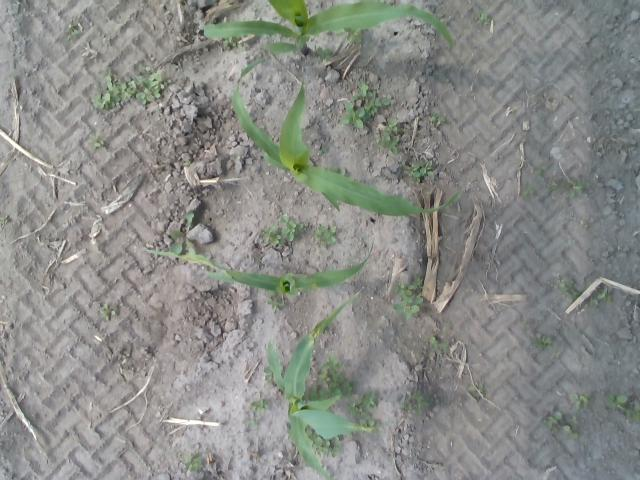Maize: (233, 58, 462, 217), (266, 286, 376, 480), (144, 242, 373, 310), (202, 0, 453, 53)
Weeds: (170, 212, 194, 253), (108, 74, 136, 104), (392, 296, 423, 320), (341, 104, 366, 128), (282, 214, 304, 241), (329, 373, 354, 395), (312, 226, 337, 248), (404, 391, 428, 413), (364, 98, 389, 117), (351, 81, 374, 100), (378, 134, 399, 154), (416, 161, 436, 182), (570, 391, 592, 410), (263, 226, 281, 247), (546, 412, 562, 434), (408, 275, 428, 292), (429, 335, 449, 351), (605, 392, 627, 406), (563, 280, 579, 299), (92, 92, 111, 108), (323, 357, 340, 374), (138, 88, 154, 106), (100, 304, 116, 320), (394, 284, 412, 298), (185, 456, 203, 470), (362, 392, 377, 408), (626, 407, 640, 424), (344, 28, 360, 42), (568, 182, 584, 196), (316, 370, 332, 384), (331, 436, 341, 458), (250, 399, 270, 410), (348, 402, 363, 416), (151, 74, 165, 89), (316, 48, 332, 61), (385, 118, 399, 132), (536, 332, 550, 346), (563, 426, 579, 438), (310, 388, 326, 399), (92, 134, 104, 148), (468, 384, 484, 393), (404, 164, 416, 176), (267, 300, 281, 310), (69, 24, 79, 38), (315, 437, 324, 452), (136, 77, 148, 88), (243, 418, 264, 424), (324, 440, 332, 455), (431, 116, 444, 125), (532, 167, 548, 174), (522, 187, 534, 196), (359, 419, 374, 426), (223, 38, 233, 48), (318, 146, 330, 154), (140, 64, 152, 72), (554, 280, 564, 288), (2, 215, 10, 225), (567, 416, 578, 423), (551, 182, 559, 191), (588, 298, 596, 307), (154, 88, 161, 98), (550, 352, 561, 358), (484, 18, 492, 26), (606, 296, 614, 304), (233, 42, 243, 48), (480, 14, 488, 20), (598, 293, 604, 300), (605, 406, 610, 412), (184, 161, 190, 166)
